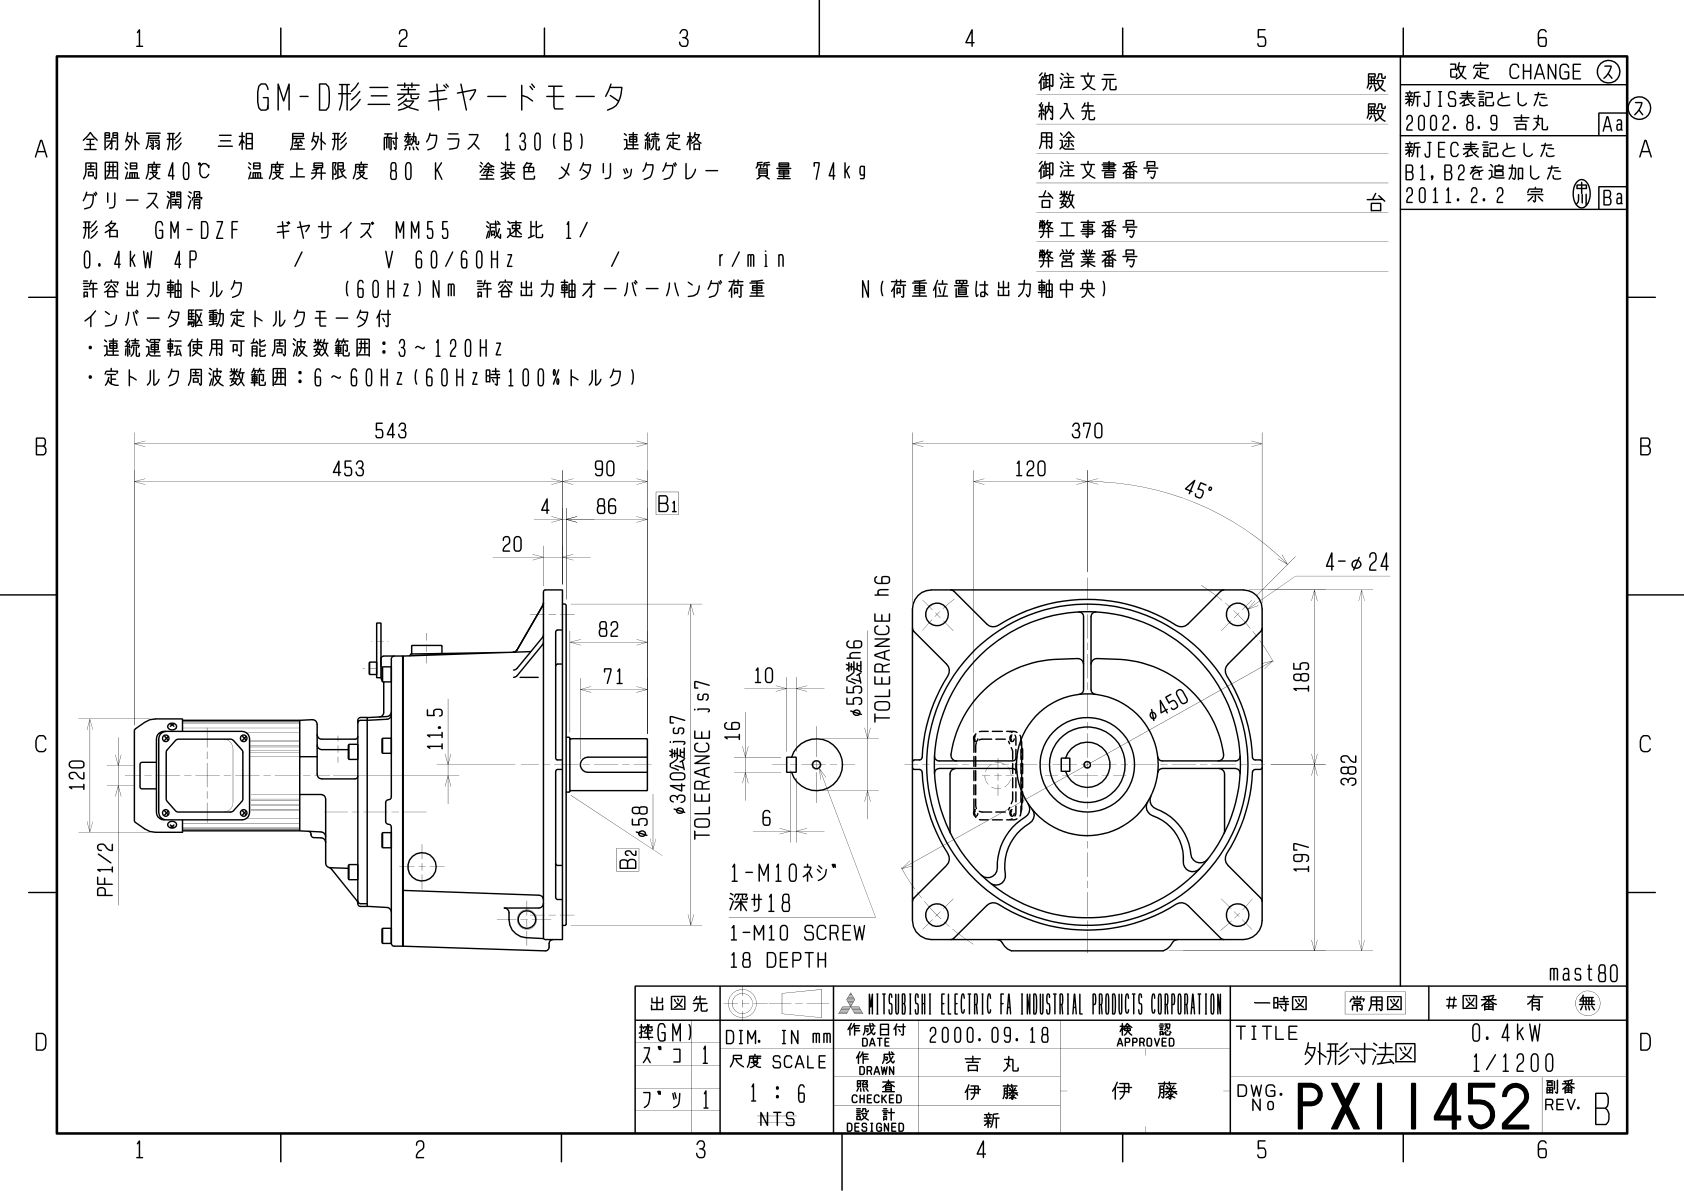GM_D_インバータ屋外_三相_フランジ: (64, 398, 1389, 974)
